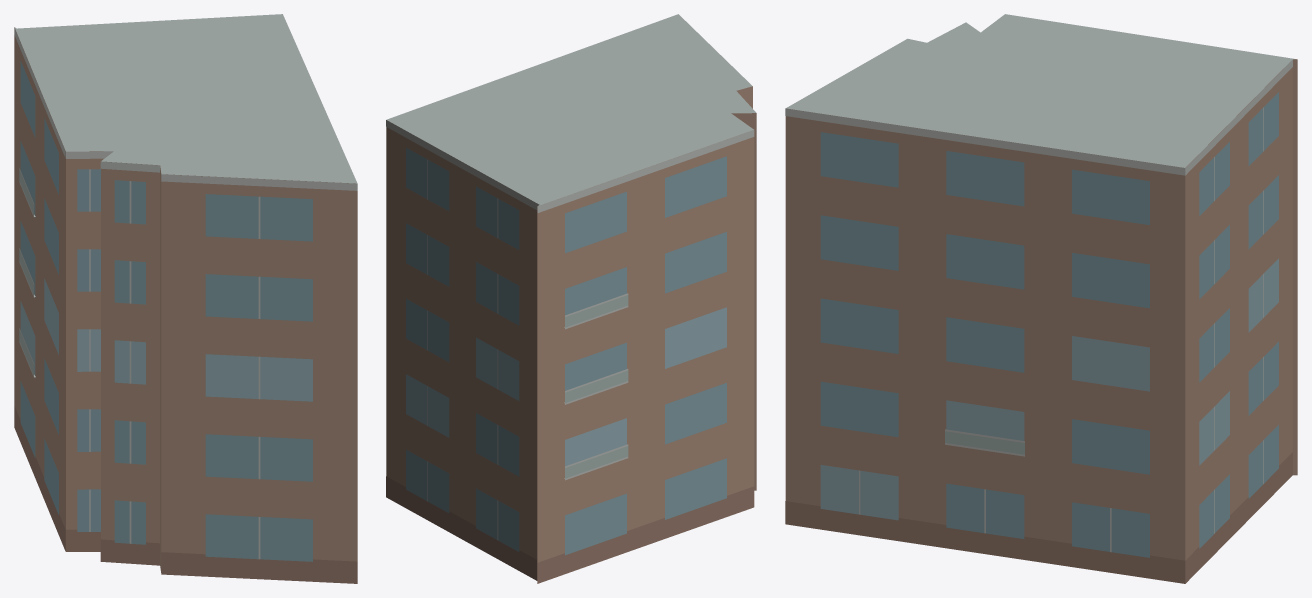
Rendered from survey-upis-32641115.glb.
3 renders of one model, left to right at view 1: azimuth 30°, elevation 25°; view 2: azimuth 150°, elevation 25°; view 3: azimuth 270°, elevation 25°, orthographic. The views are drawn at different scales.
Visible parts, largest first — view 1: survey-upis-32641115.tmp; view 2: survey-upis-32641115.tmp; view 3: survey-upis-32641115.tmp.
Part boxes in pixels (box(x1,y1,x2,y2)): survey-upis-32641115.tmp: box(14, 14, 357, 583); survey-upis-32641115.tmp: box(386, 14, 756, 583); survey-upis-32641115.tmp: box(785, 14, 1297, 583).
Size of the model in its own units: 10.53 by 13.25 by 14.79.
